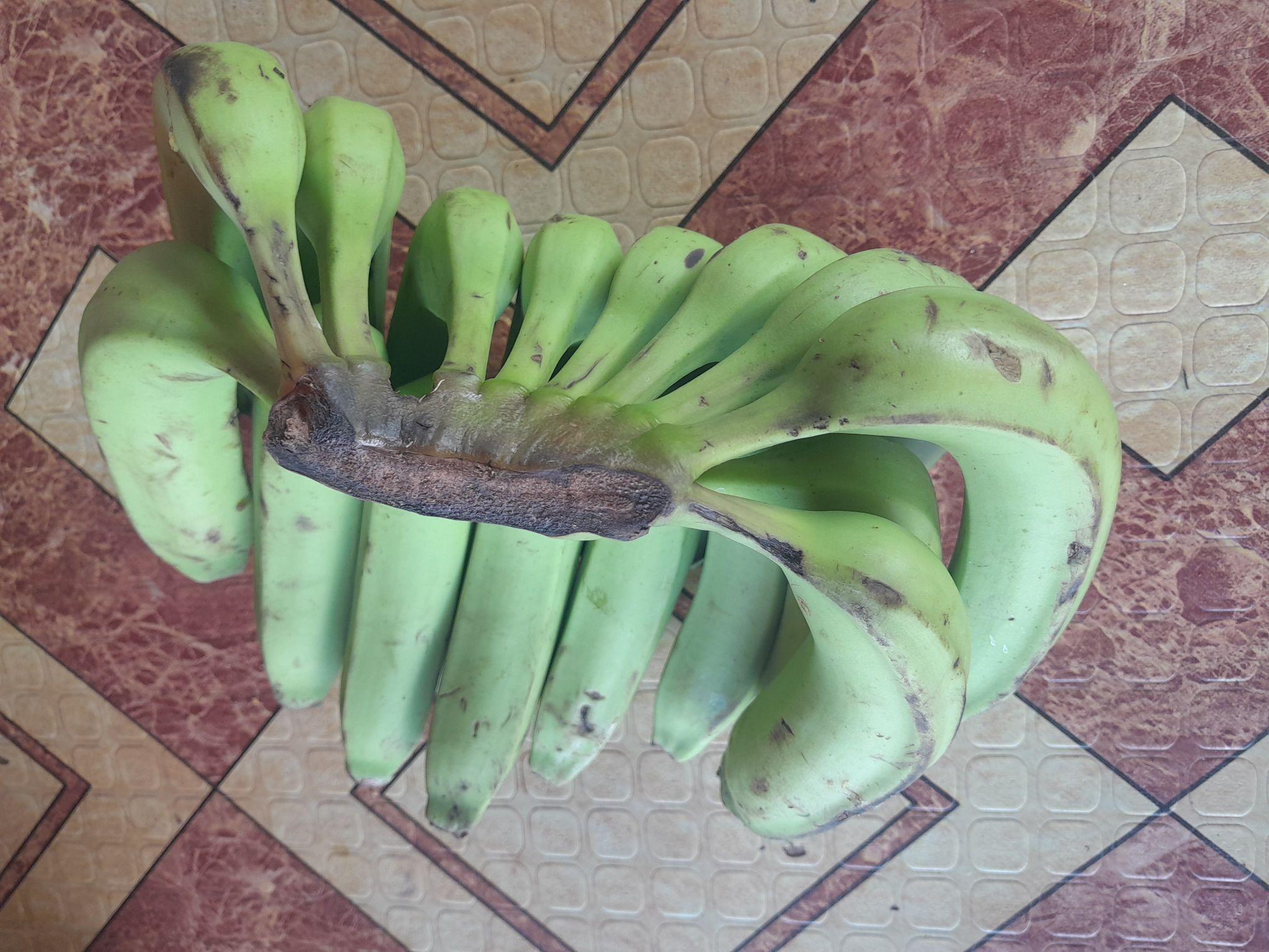Banana Unripe: (672, 285, 1120, 714), (704, 491, 969, 838), (79, 240, 283, 583), (154, 42, 335, 381), (642, 248, 967, 424), (426, 523, 582, 833), (595, 223, 843, 404), (530, 526, 701, 783), (342, 503, 471, 781), (253, 399, 362, 709), (652, 533, 786, 761), (548, 226, 721, 399), (699, 434, 942, 555), (295, 97, 404, 359), (486, 216, 622, 392), (406, 188, 523, 383)
